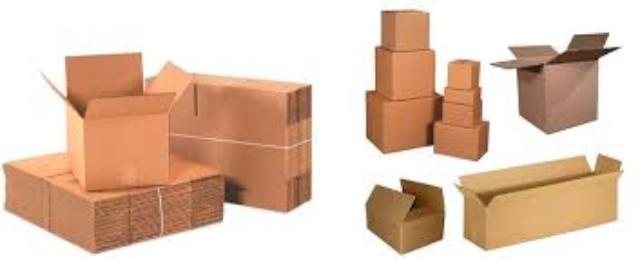cardboard paper: (2, 51, 308, 248), (459, 152, 618, 245), (490, 31, 615, 129), (364, 178, 441, 250)
